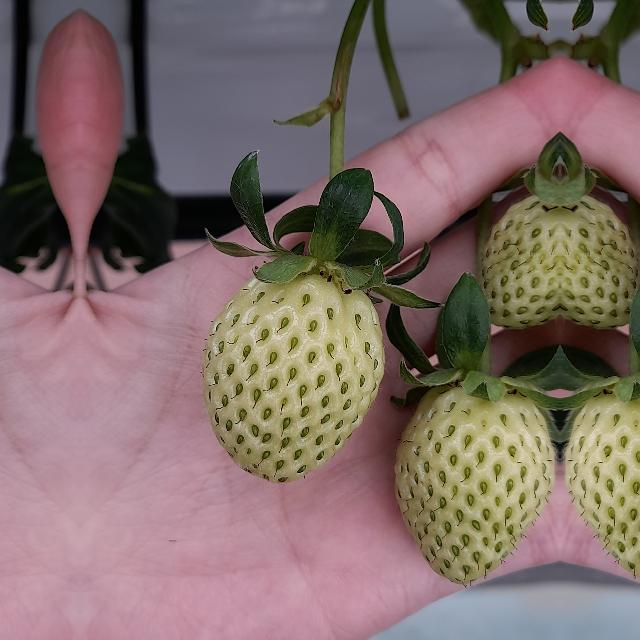Health_25: (202, 268, 384, 482), (396, 378, 558, 586), (561, 378, 640, 586), (479, 190, 559, 332), (561, 190, 640, 331)
